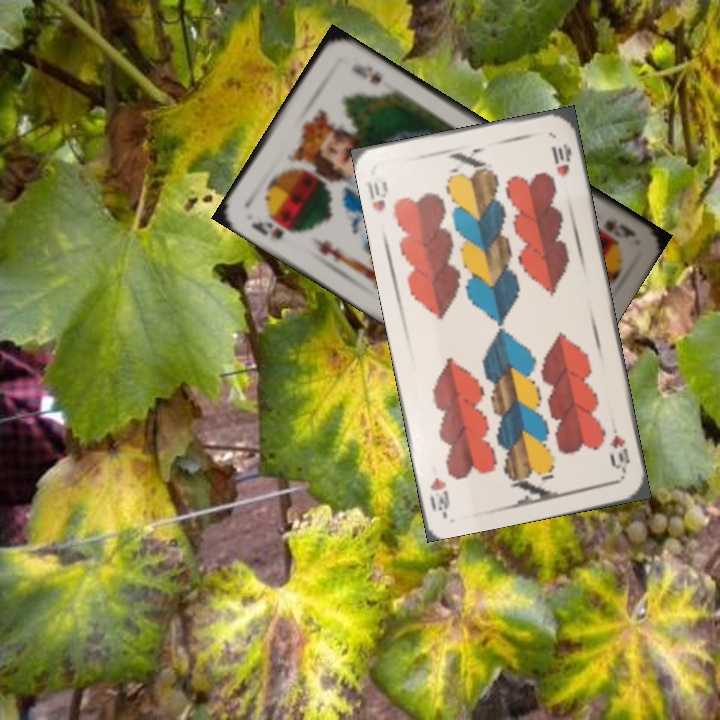H10: (605, 431, 633, 477), (363, 177, 391, 214)
SK: (247, 216, 286, 242), (600, 216, 639, 242)
